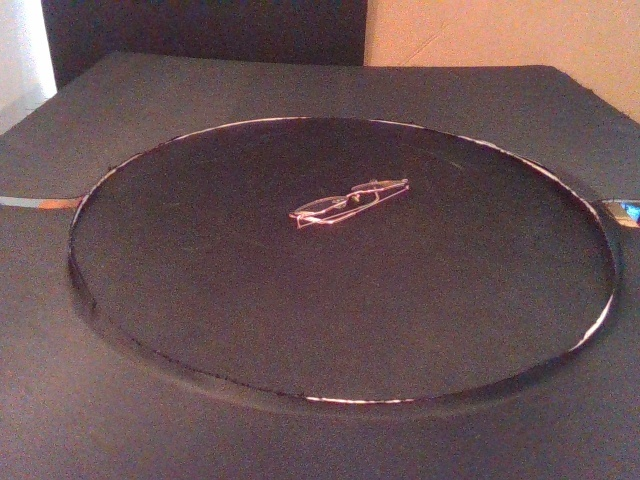glasses: (287, 177, 412, 232)
